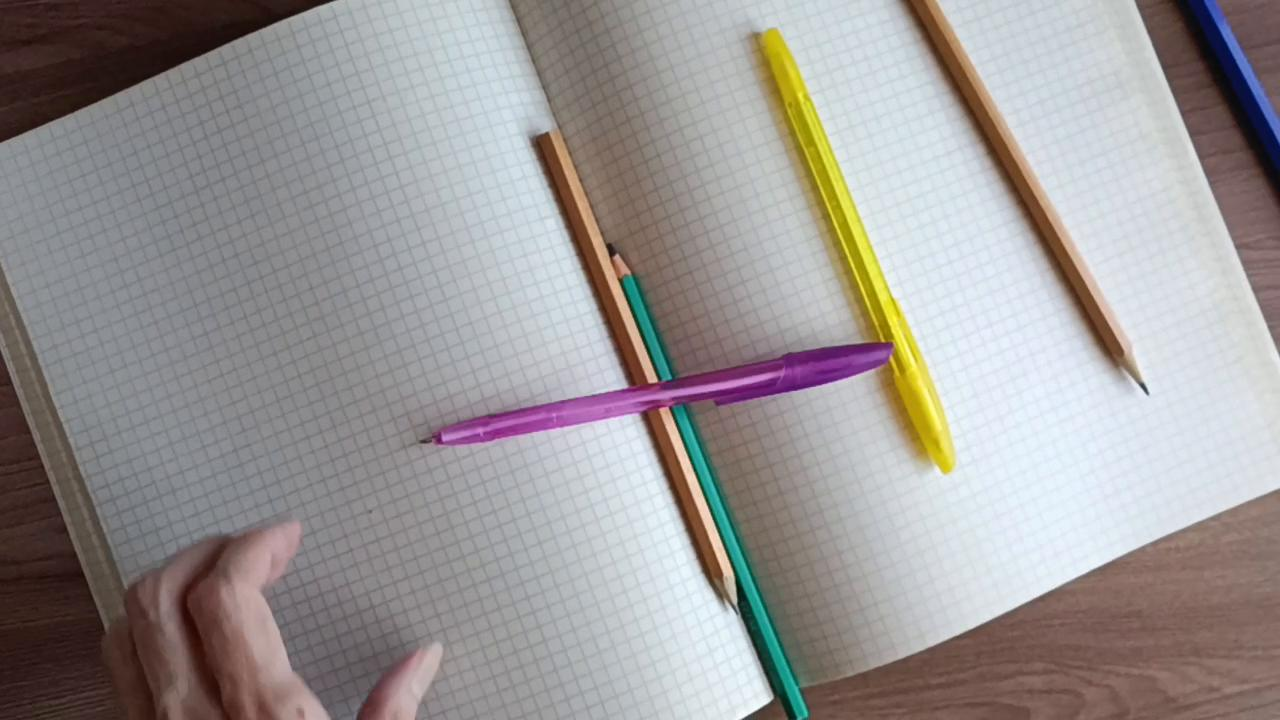pen: (750, 25, 959, 475), (415, 336, 894, 456), (1171, 0, 1280, 202)
pencil: (524, 126, 740, 614), (901, 0, 1153, 400), (607, 243, 812, 720)
